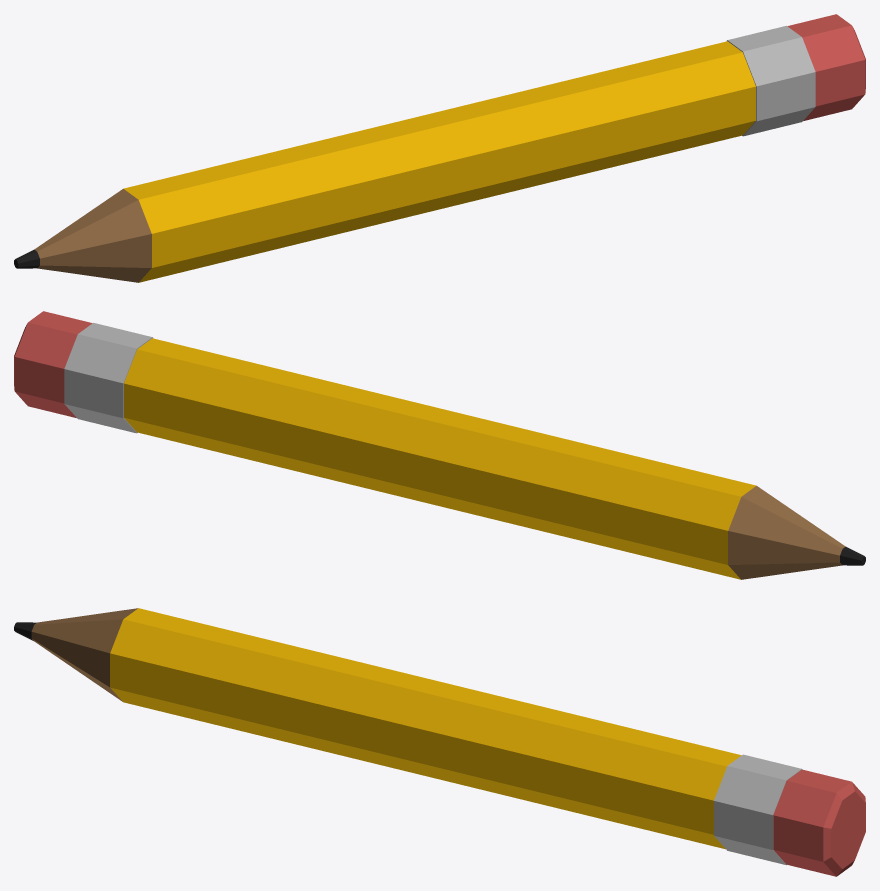
File: Lapis.fbx
The picture shows the model from 3 angles, top to bottom: view 1: azimuth 30°, elevation 25°; view 2: azimuth 150°, elevation 25°; view 3: azimuth 330°, elevation 25°; orthographic projection.
Parts seen in each view (by area): view 1: Cube; view 2: Cube; view 3: Cube.
Part boxes in pixels (x1,y1,x2,y2): Cube: (14,14,865,282); Cube: (14,311,865,579); Cube: (14,608,865,876).
Bounding box in the file's own units: 2098 × 186 × 204.
